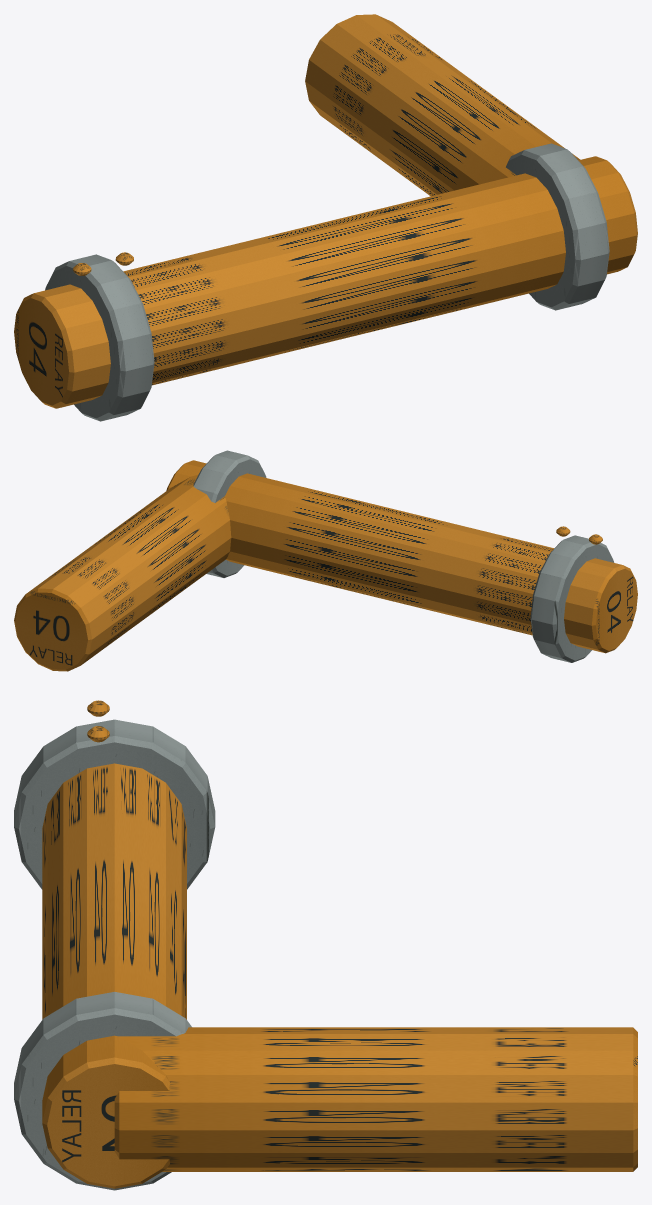
The model's file is pipe_elbow_LOD0.obj.
3 views of the same model, one above another, from view 1: azimuth 30°, elevation 25°; view 2: azimuth 150°, elevation 25°; view 3: azimuth 270°, elevation 25° (orthographic). The views are drawn at different scales.
Visible parts, largest first — view 1: L02_pipe_elbow_LOD0; view 2: L02_pipe_elbow_LOD0; view 3: L02_pipe_elbow_LOD0.
Boxes of the visible parts, x1,y1,x2,y2 form: L02_pipe_elbow_LOD0: [14, 14, 637, 421]; L02_pipe_elbow_LOD0: [14, 450, 637, 671]; L02_pipe_elbow_LOD0: [14, 700, 637, 1190].
Bounding box in the file's own units: 2.03 × 0.53 × 1.55.
1 material, 1 textured.
